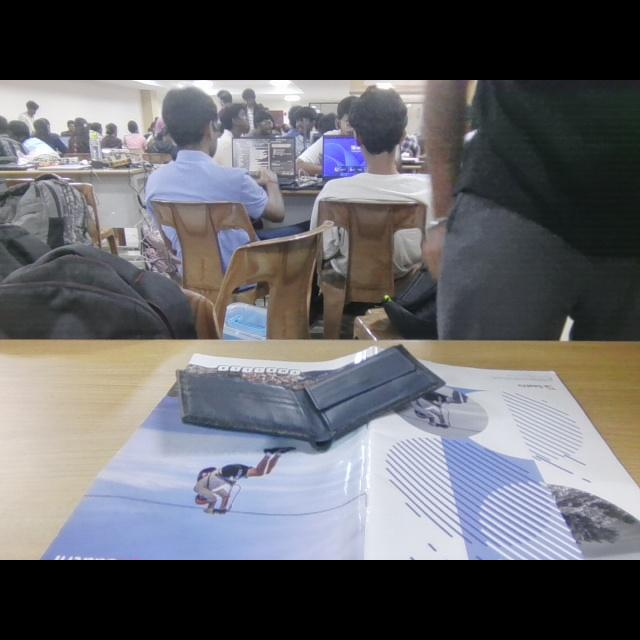wallet: (164, 344, 456, 450)
